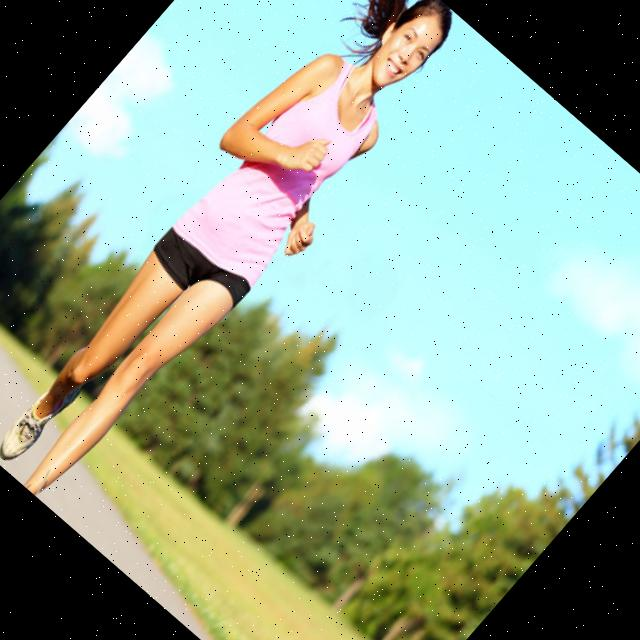Person: (0, 0, 487, 524)
